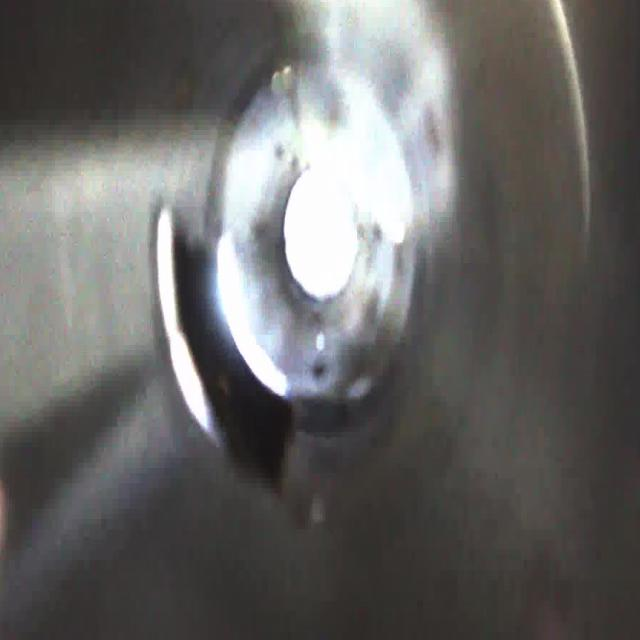hole: (140, 190, 314, 522)
